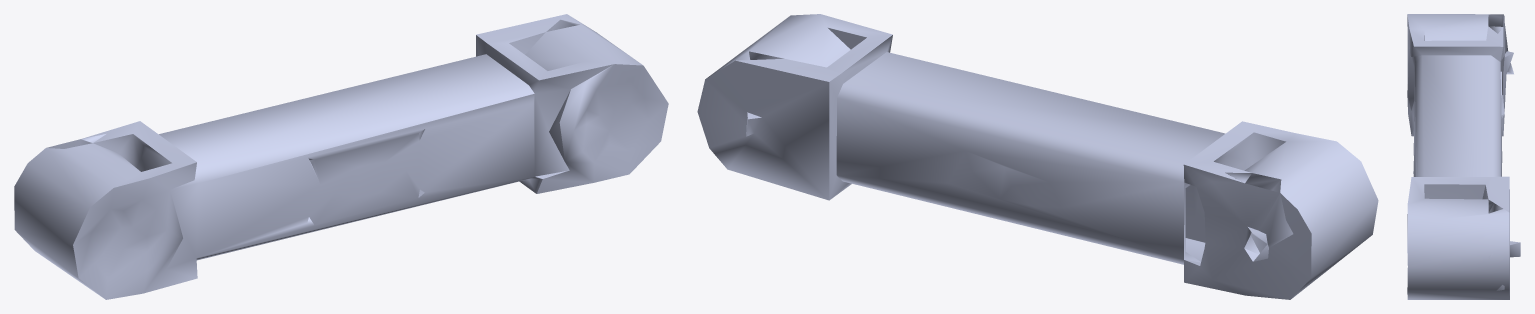
3 renders of one model, left to right at view 1: azimuth 30°, elevation 25°; view 2: azimuth 150°, elevation 25°; view 3: azimuth 270°, elevation 25°, orthographic. The views are drawn at different scales.
Parts seen in each view (by area): view 1: link2_stl; view 2: link2_stl; view 3: link2_stl.
Boxes of the visible parts, x1,y1,x2,y2 form: link2_stl: (14, 14, 668, 299); link2_stl: (697, 14, 1378, 299); link2_stl: (1407, 14, 1520, 299).
Size of the model in its own units: 0.324 by 0.068 by 0.06.
